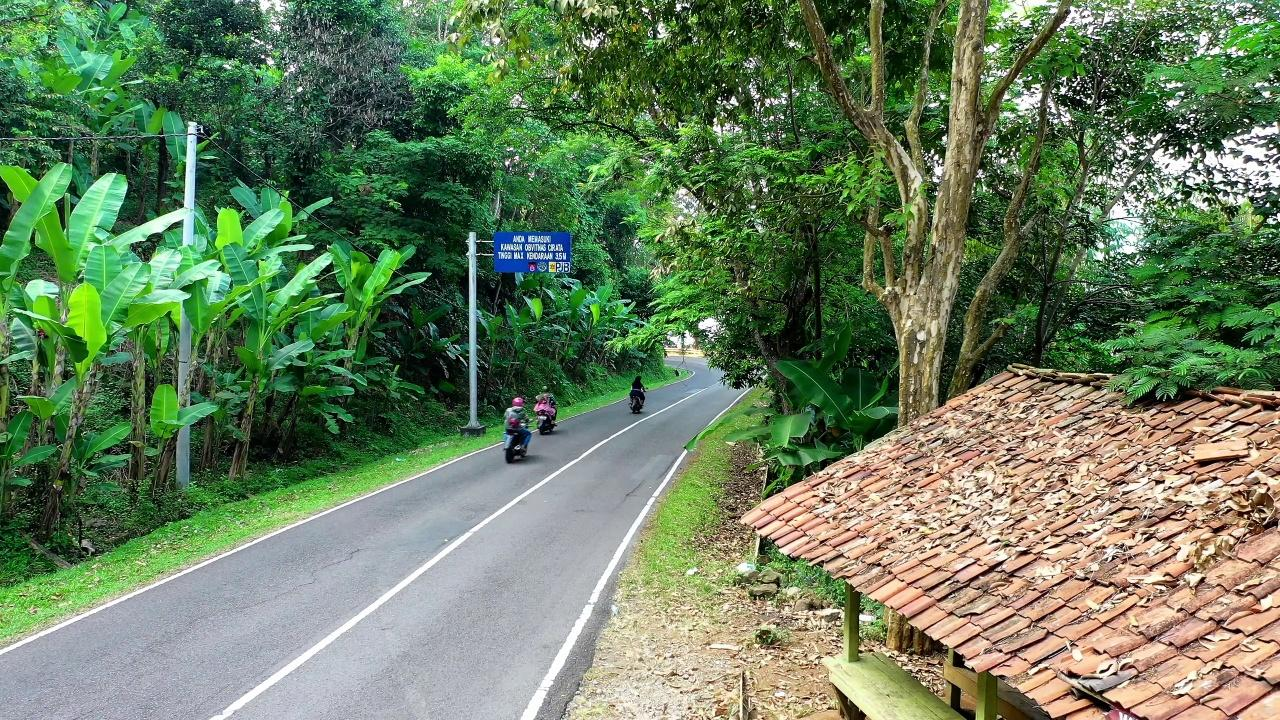Helmet: (504, 397, 531, 448), (630, 376, 644, 405)
Motor: (504, 418, 526, 462), (535, 398, 556, 434), (630, 394, 644, 414)
